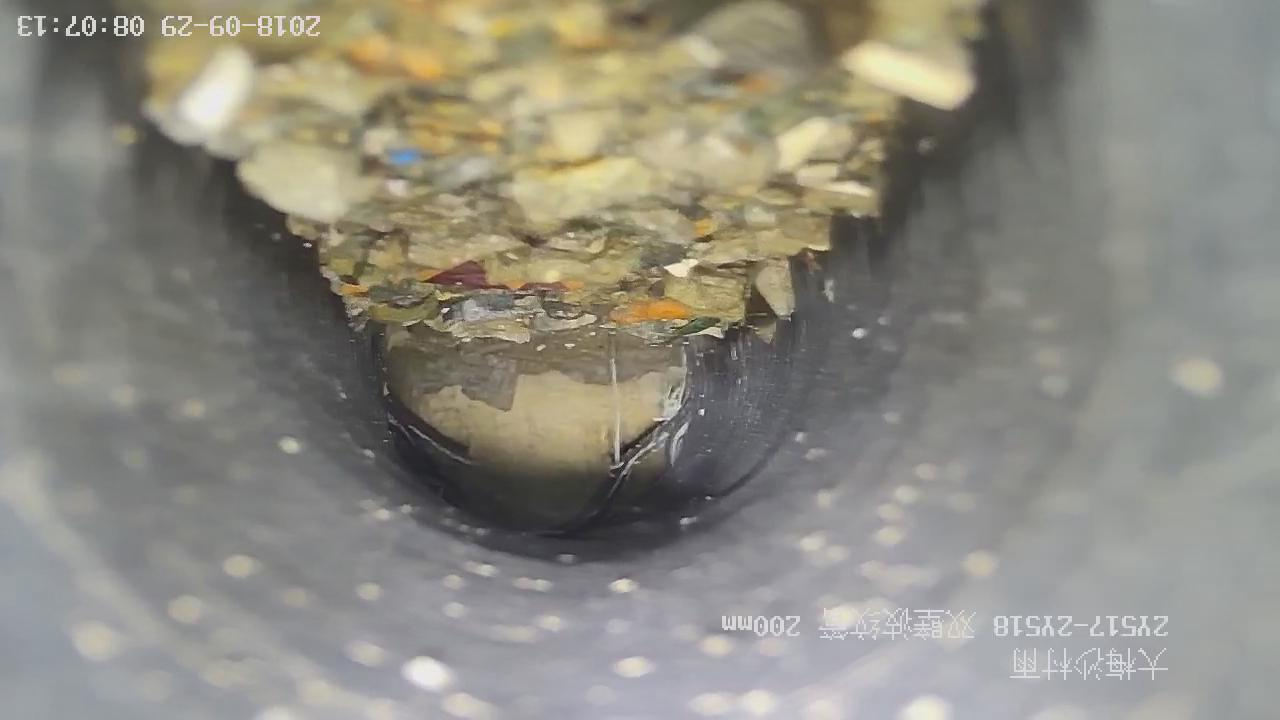CJ: (147, 1, 978, 371)
JKCL: (358, 380, 721, 526)
